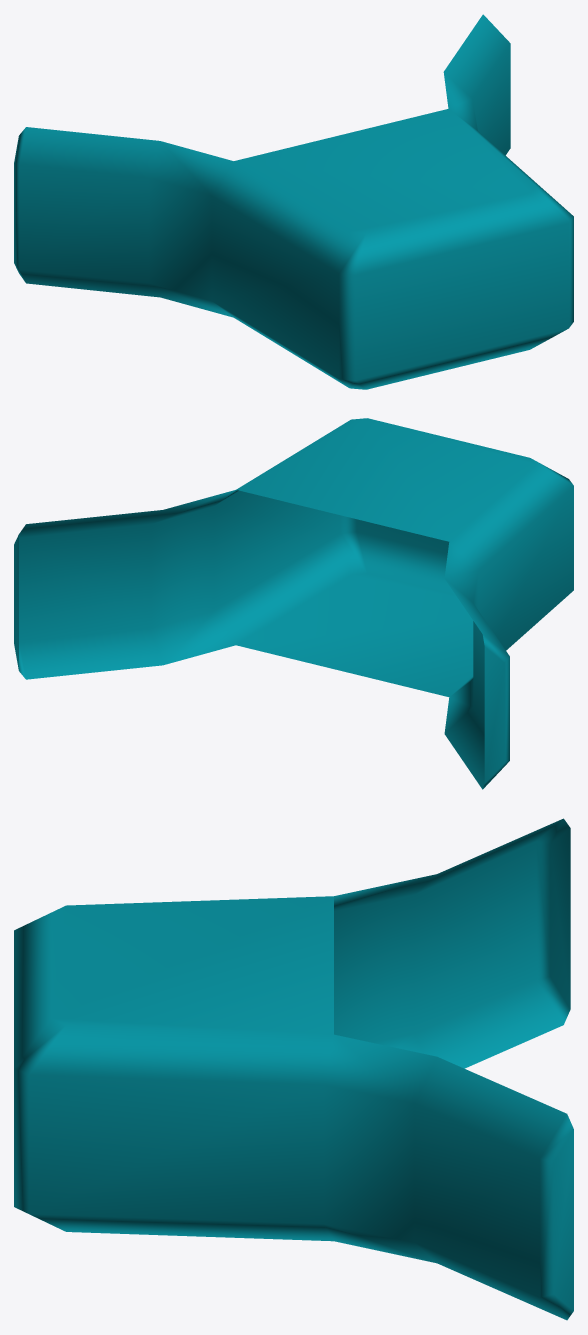
The model's file is building_006.fbx.
3 renders of one model, top to bottom at view 1: azimuth 30°, elevation 25°; view 2: azimuth 150°, elevation 25°; view 3: azimuth 270°, elevation 25°, orthographic. The views are drawn at different scales.
Visible parts, largest first — view 1: building_006; view 2: building_006; view 3: building_006.
Boxes of the visible parts, x1=… form: building_006: x1=14, y1=14, x2=573, y2=389; building_006: x1=14, y1=418, x2=573, y2=789; building_006: x1=14, y1=818, x2=573, y2=1320.
Bounding box in the file's own units: 1367 × 1019 × 415.
